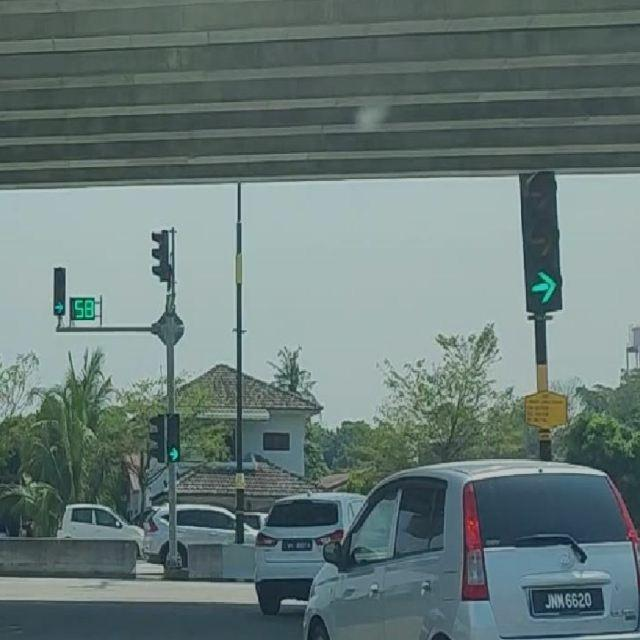Green: (518, 172, 562, 314), (166, 413, 180, 462), (53, 266, 65, 314)
